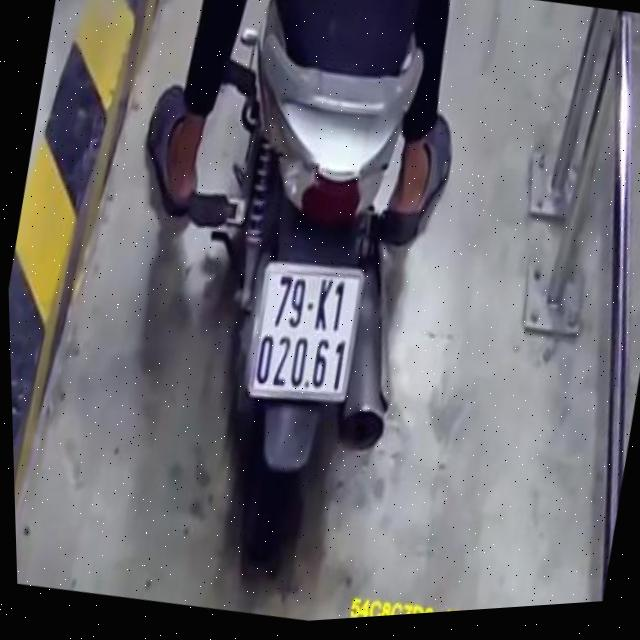motorcycle: (137, 0, 487, 613)
plate: (236, 245, 375, 421)
